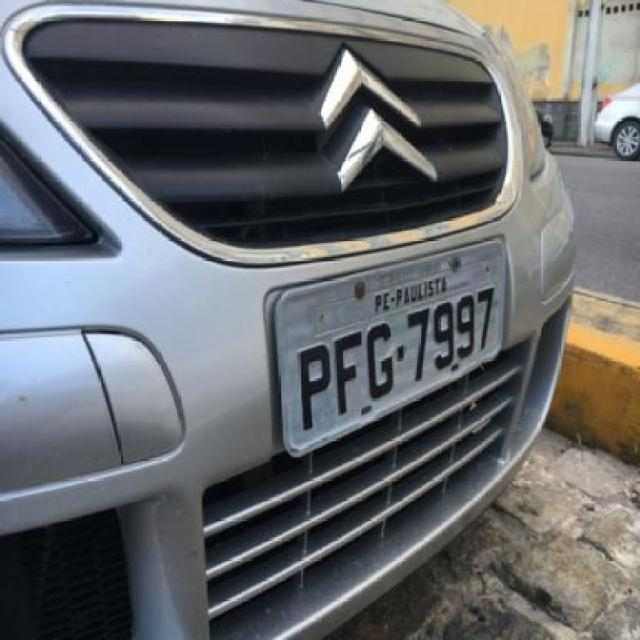old_plate: (261, 227, 514, 463)
